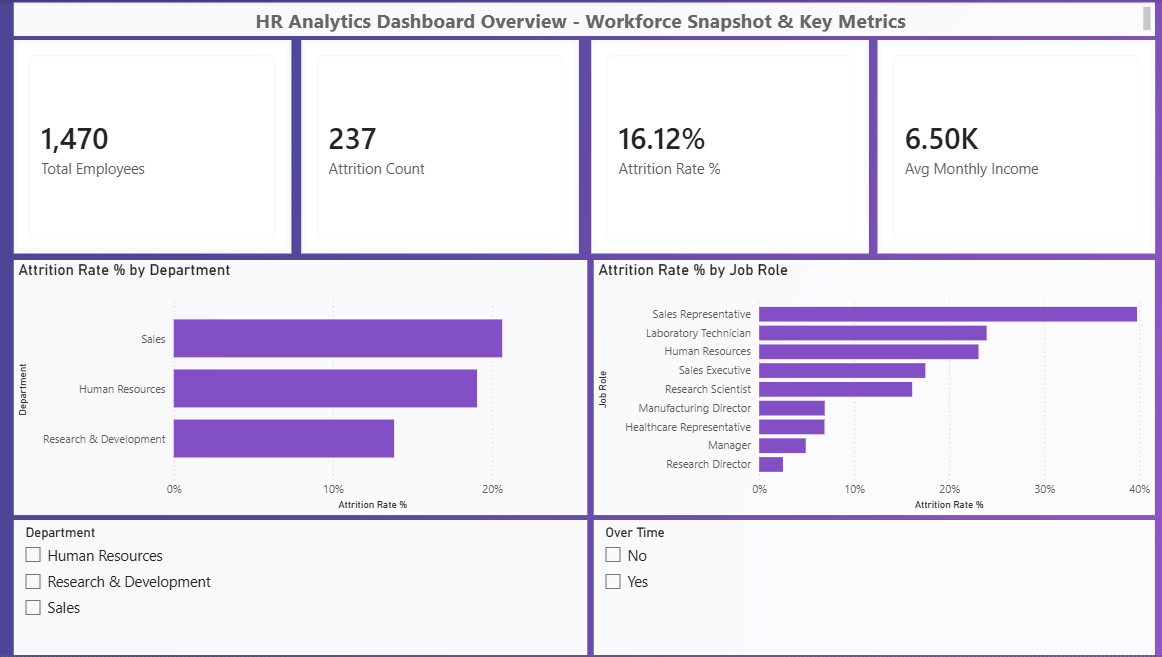

This screenshot's page, from the dashboard's own definition file:
{"tool":"powerbi","page":{"name":"Overview","canvas":[1280,720],"ordinal":0},"visuals":[{"type":"cardVisual","fields":{"Data":["_Measures.Total Employees"]},"box":[15.1,43.9,304.6,234.6],"z":0},{"type":"cardVisual","fields":{"Data":["_Measures.Attrition Count"]},"box":[330.7,43.9,304.6,234.6],"z":1000},{"type":"cardVisual","fields":{"Data":["_Measures.Attrition Rate %"]},"box":[649.1,43.9,304.6,234.6],"z":2000},{"type":"cardVisual","fields":{"Data":["_Measures.Avg Monthly Income"]},"box":[963.3,43.9,304.6,234.6],"z":3000},{"type":"clusteredBarChart","fields":{"Category":["public hr_employees.department"],"Y":["_Measures.Attrition Rate %"]},"box":[15.1,285.4,629.8,279.9],"z":4000},{"type":"clusteredBarChart","fields":{"Category":["public hr_employees.job_role"],"Y":["_Measures.Attrition Rate %"]},"box":[651.8,285.4,616.1,279.9],"z":5000},{"type":"slicer","fields":{"Values":["public hr_employees.department"]},"box":[15.1,570.8,629.8,149.6],"z":6000},{"type":"slicer","fields":{"Values":["public hr_employees.over_time"]},"box":[651.8,570.8,616.1,149.6],"z":7000},{"type":"textbox","box":[15.1,2.7,1252.8,37],"z":8000}]}

Visuals, with their boxes in screenshot pixels (x1, y1, x2, y2), scaled from the page's 1280x720 canvas onto the 1162x657 screenshot:
cardVisual - _Measures.Total Employees: bbox=(14, 40, 290, 254)
cardVisual - _Measures.Attrition Count: bbox=(300, 40, 577, 254)
cardVisual - _Measures.Attrition Rate %: bbox=(589, 40, 866, 254)
cardVisual - _Measures.Avg Monthly Income: bbox=(874, 40, 1151, 254)
clusteredBarChart - public hr_employees.department x _Measures.Attrition Rate %: bbox=(14, 260, 585, 516)
clusteredBarChart - public hr_employees.job_role x _Measures.Attrition Rate %: bbox=(592, 260, 1151, 516)
slicer - public hr_employees.department: bbox=(14, 521, 585, 656)
slicer - public hr_employees.over_time: bbox=(592, 521, 1151, 656)
textbox: bbox=(14, 2, 1151, 36)
